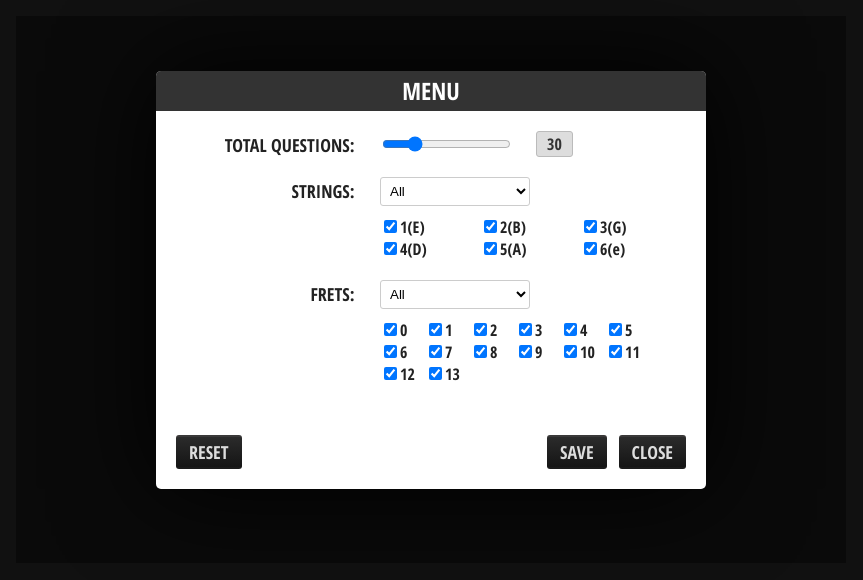
MenuModal › shows and hides reset confirm modal properly
The image size is (863, 580).
Step 1. Click the button "Reset" → point(209, 452), box [176, 436, 242, 470]
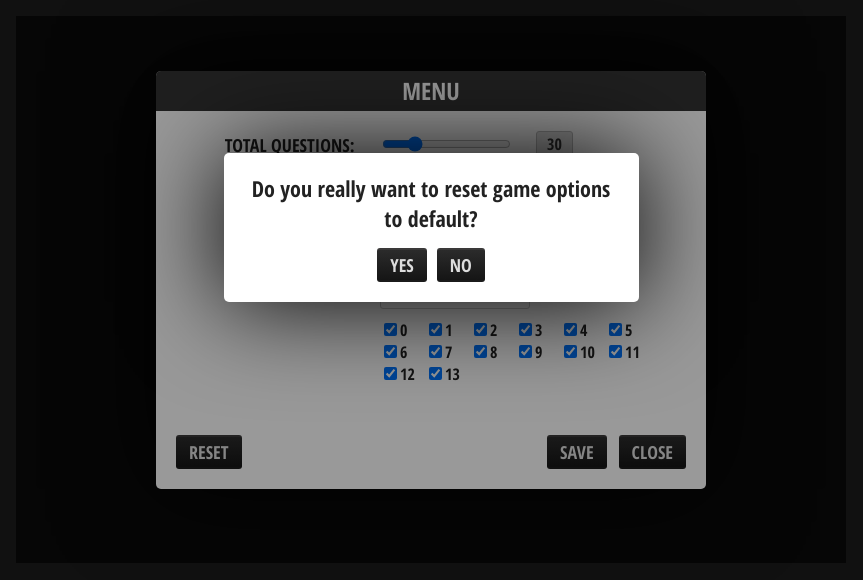
Check: the text "Do you really want to reset game options to default?" is shown, box [244, 173, 618, 248]
Step 2. Click the button "Yes" → point(402, 265), box [377, 248, 427, 282]
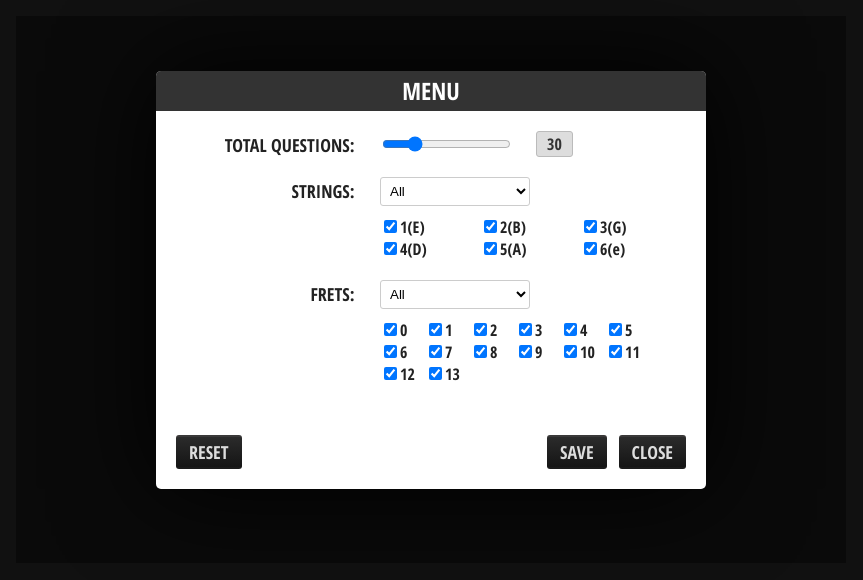
Check: the text "Do you really want to reset game options to default?" is gone
Step 3. Click the button "Reset" → point(209, 452), box [176, 436, 242, 470]
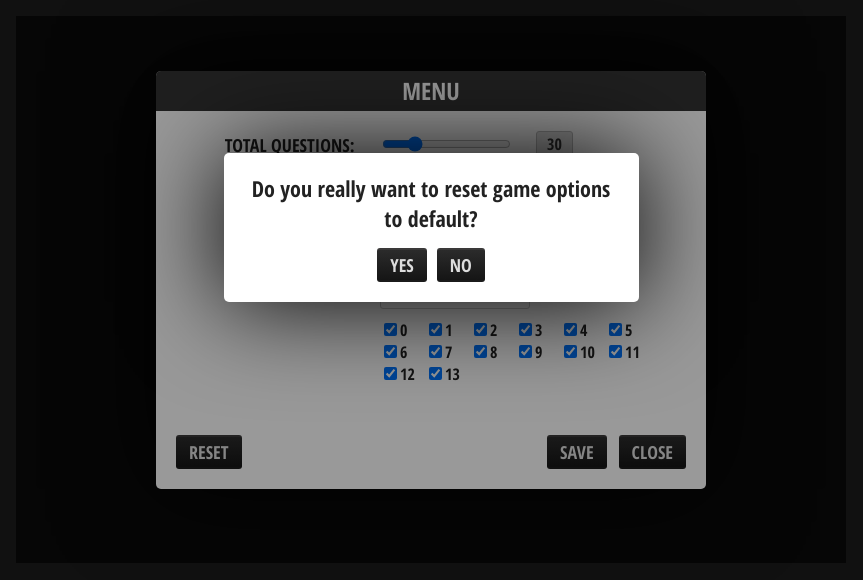
Check: the text "Do you really want to reset game options to default?" is shown, box [244, 173, 618, 248]
Step 4. Click the button "No" → point(461, 265), box [437, 248, 485, 282]
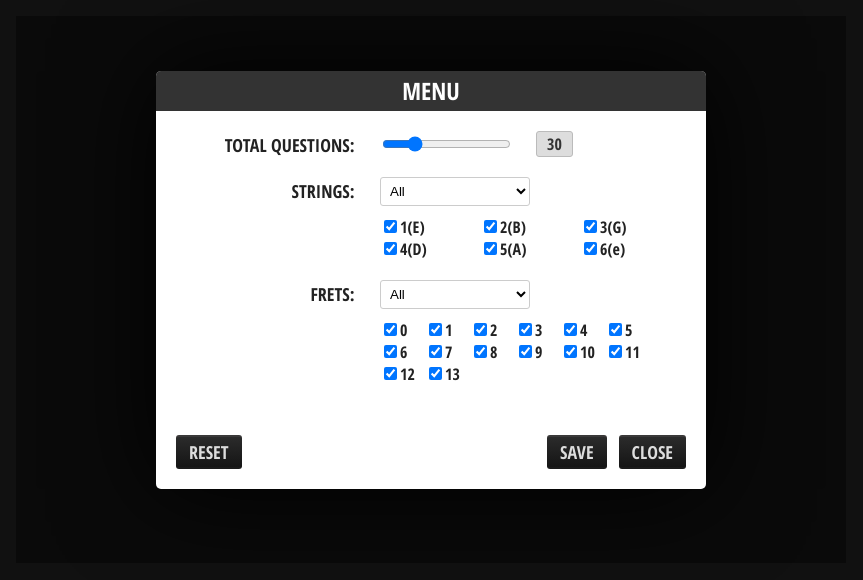
Check: the text "Do you really want to reset game options to default?" is gone
